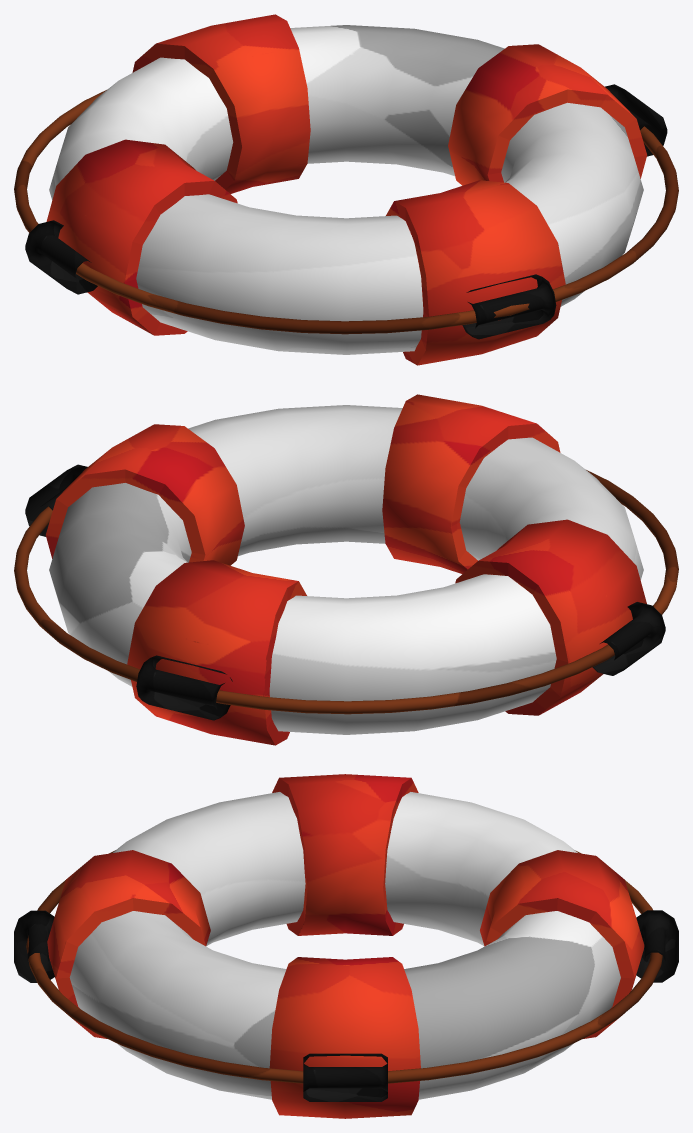
Rendered from LifeRing.fbx.
3 views of the same model, one above another, from view 1: azimuth 30°, elevation 25°; view 2: azimuth 150°, elevation 25°; view 3: azimuth 270°, elevation 25° (orthographic). The views are drawn at different scales.
Visible parts, largest first — view 1: Torus, Torus.001, BezierCircle, Cylinder.002, Cylinder.003, Cylinder.001; view 2: Torus, Torus.001, BezierCircle, Cylinder, Cylinder.003, Cylinder.001; view 3: Torus, Torus.001, BezierCircle, Cylinder.001, Cylinder, Cylinder.002.
Boxes of the visible parts, x1,y1,x2,y2 form: Torus: (49,25,643,354); Torus.001: (46,14,647,365); BezierCircle: (14,90,678,334); Cylinder.002: (462,274,556,339); Cylinder.003: (25,220,97,294); Cylinder.001: (605,84,667,156); Torus: (49,405,643,734); Torus.001: (45,394,646,745); BezierCircle: (14,470,678,714); Cylinder: (136,655,232,720); Cylinder.003: (592,602,665,675); Cylinder.001: (25,464,87,536); Torus: (69,792,620,1099); Torus.001: (47,774,644,1118); BezierCircle: (26,850,662,1083); Cylinder.001: (303,1053,387,1101); Cylinder: (636,910,678,982); Cylinder.002: (14,910,54,982).
Bounding box in the file's own units: 160 × 38.28 × 159.
